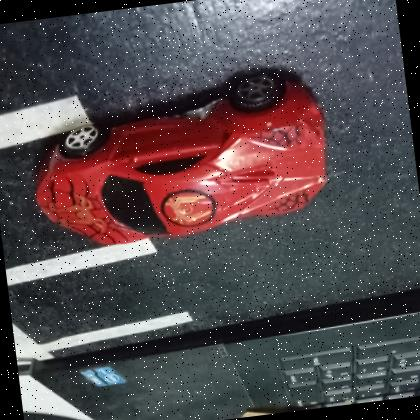Car: (21, 65, 338, 258)
